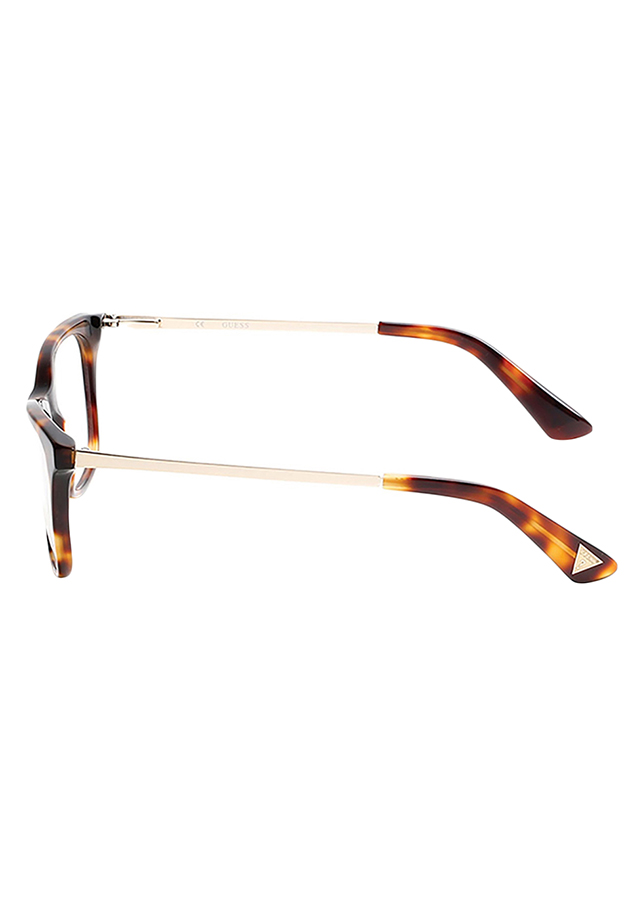Guess: (215, 319, 263, 332)
